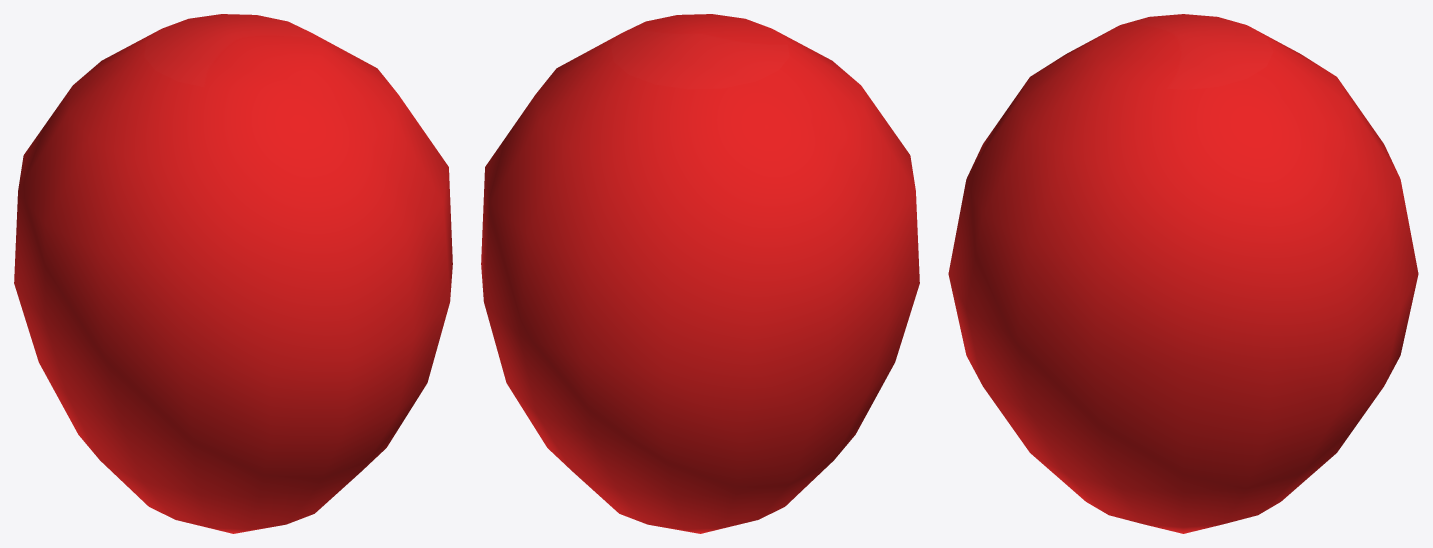
Rendered from GloboDeAgua.FBX.
3 renders of one model, left to right at view 1: azimuth 30°, elevation 25°; view 2: azimuth 150°, elevation 25°; view 3: azimuth 270°, elevation 25°, orthographic.
Visible parts, largest first — view 1: Globo; view 2: Globo; view 3: Globo.
Boxes of the visible parts, bbox=[...] form: Globo: bbox=[14, 14, 452, 533]; Globo: bbox=[481, 14, 919, 533]; Globo: bbox=[948, 14, 1418, 533].
Size of the model in its own units: 45.5 by 57.42 by 49.1.
1 material, 1 textured.
